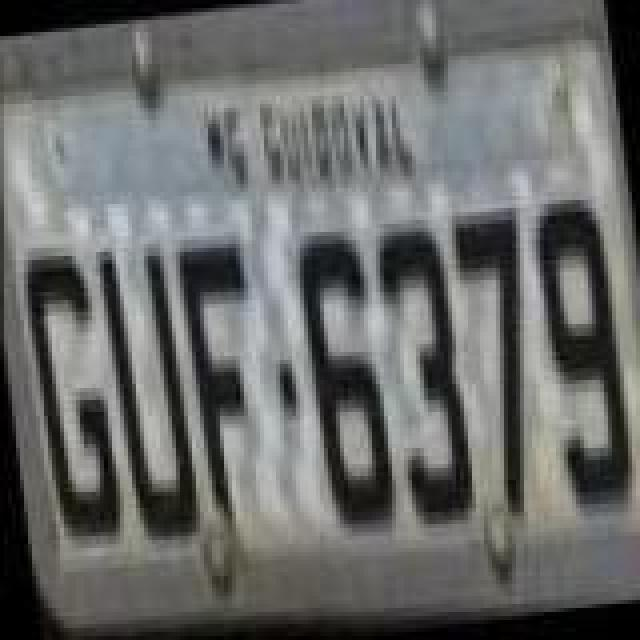3: (370, 220, 482, 536)
6: (294, 224, 398, 540)
7: (450, 208, 554, 524)
9: (532, 194, 640, 518)
F: (174, 234, 278, 530)
G: (18, 242, 122, 550)
U: (92, 236, 200, 548)
